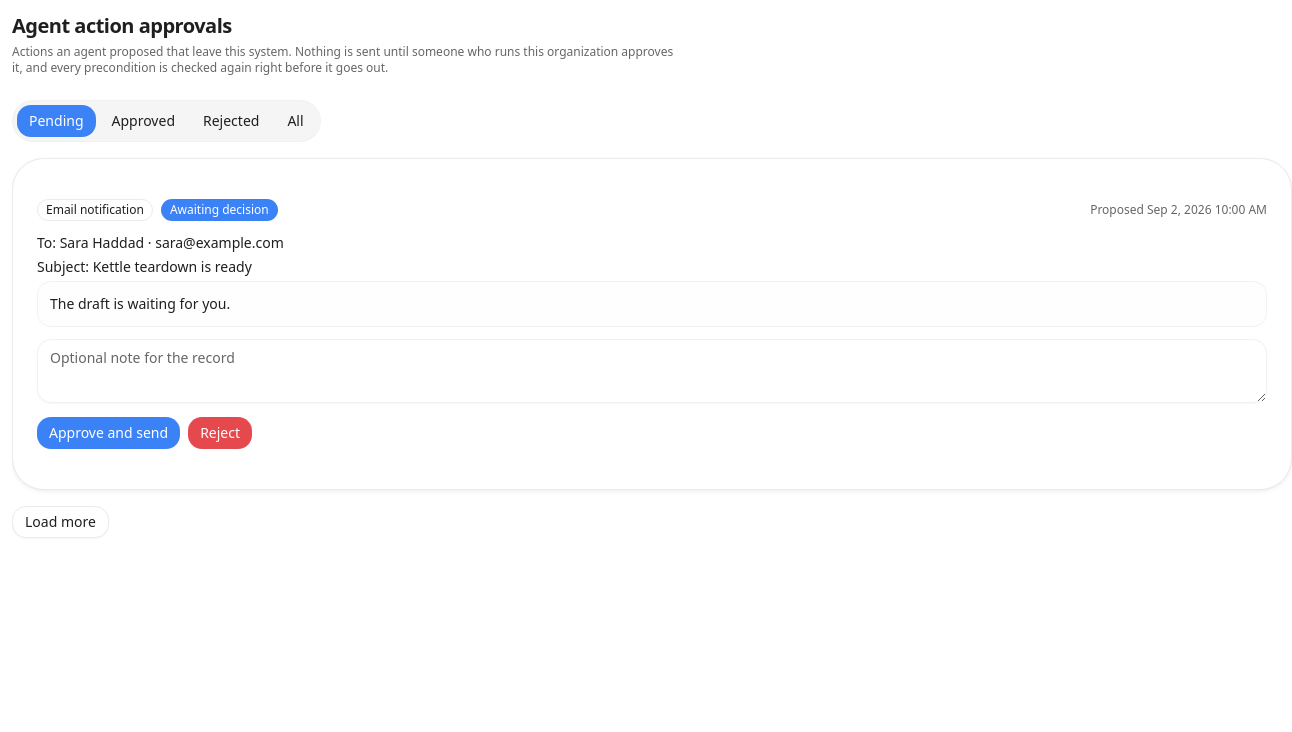
keeps rows on append failure and retries the same cursor
Click the button "Load more": coordinates (60, 522) [12,506,109,538]
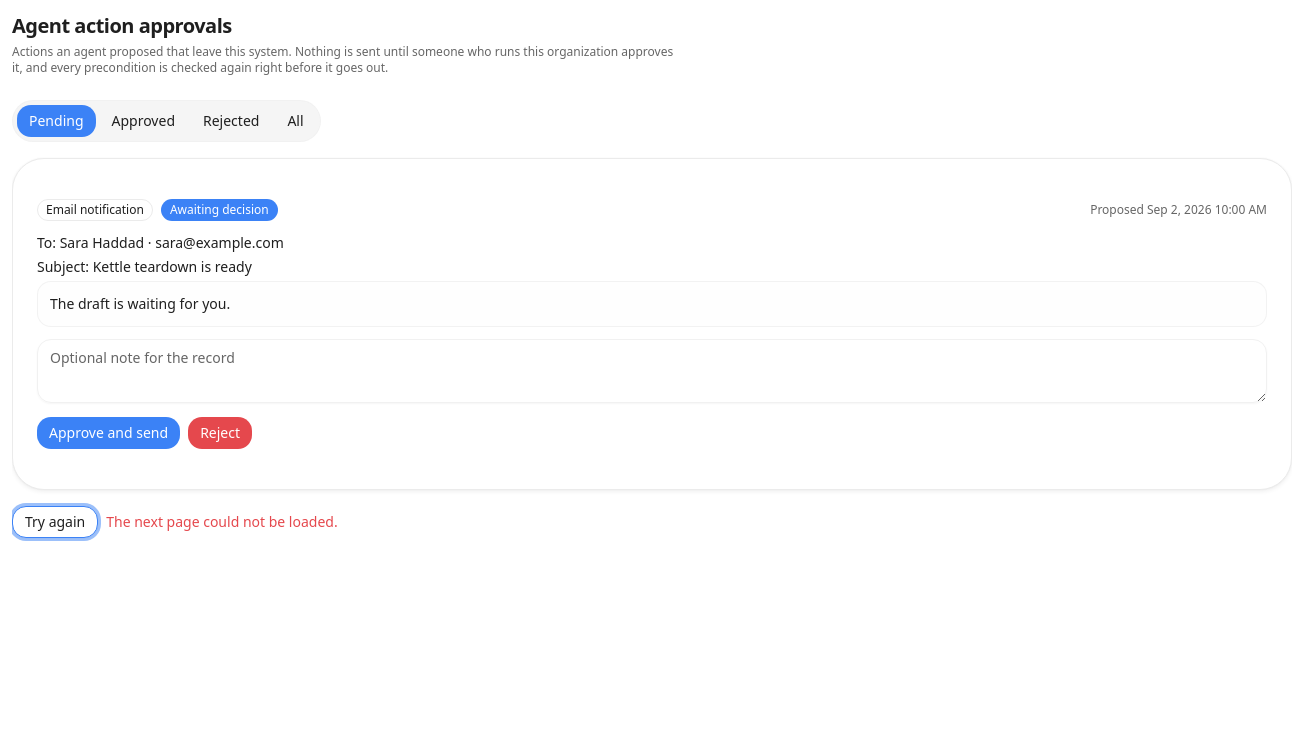
Expected: the text "Kettle teardown is ready" is shown, [93,257,252,276]
Now the text "The next page could not be loaded." is shown, box [106,512,338,532]
Click the button "Try again": coordinates (55, 522) [12,506,98,538]
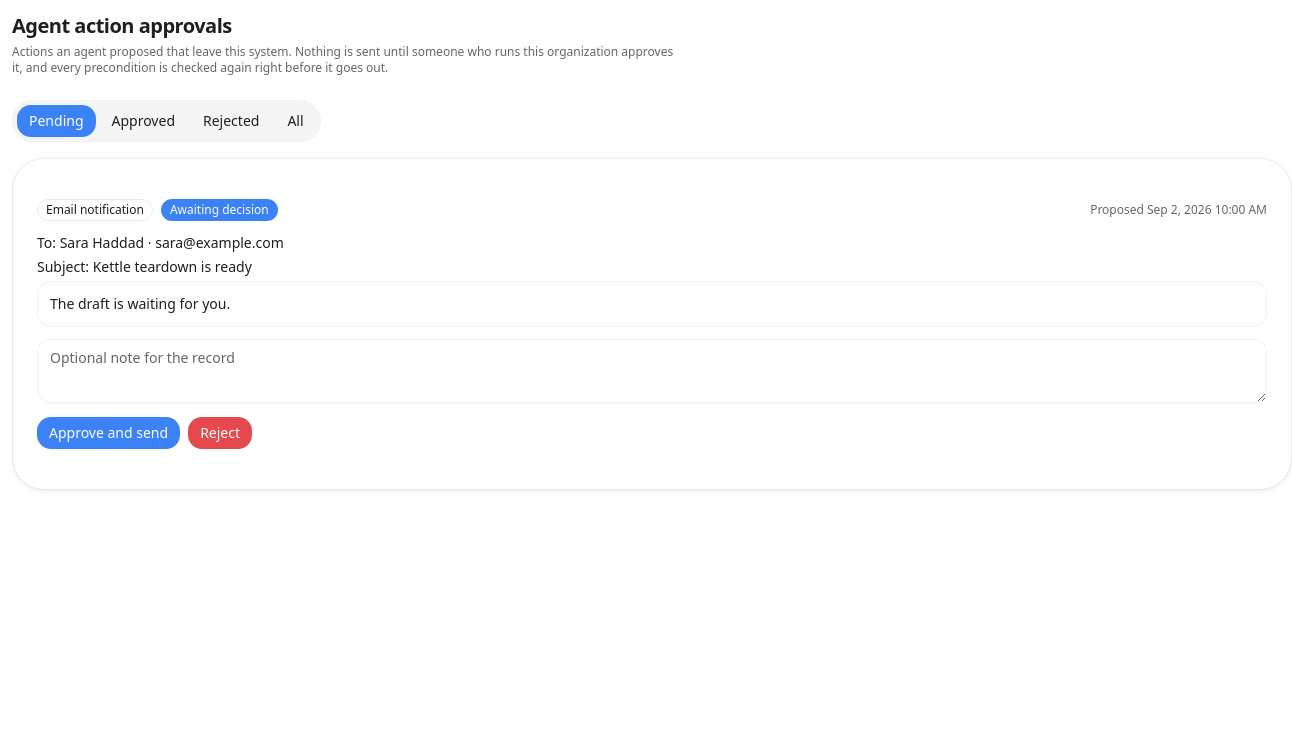
Now the text "next page could not be loaded" is gone
